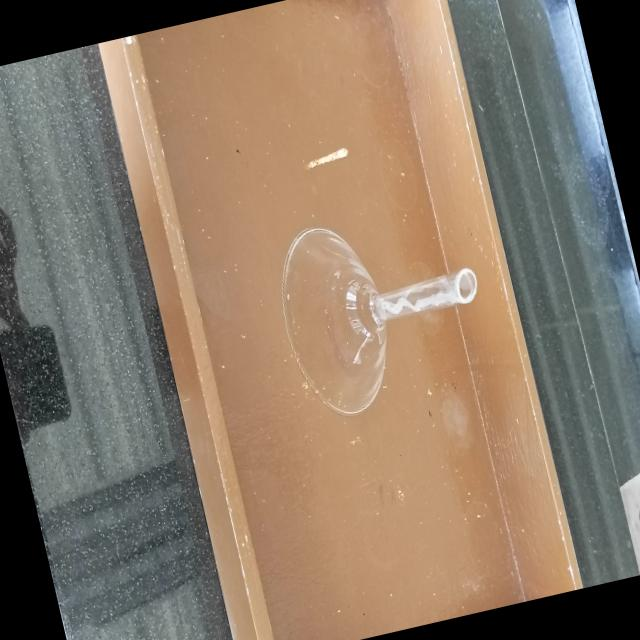funnel: (256, 167, 507, 443)
